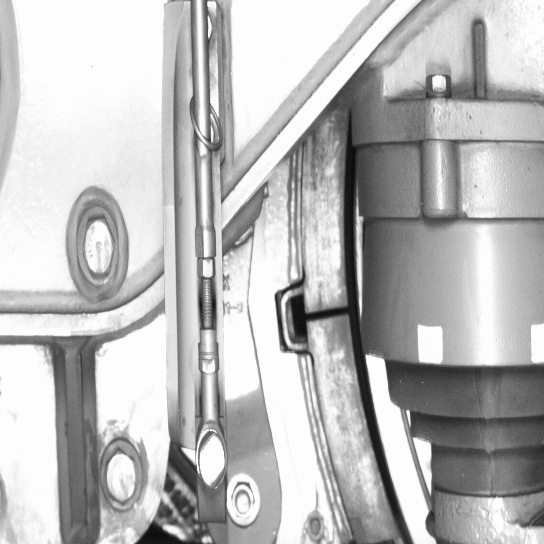KnifeSwitch: (301, 141, 421, 543)
